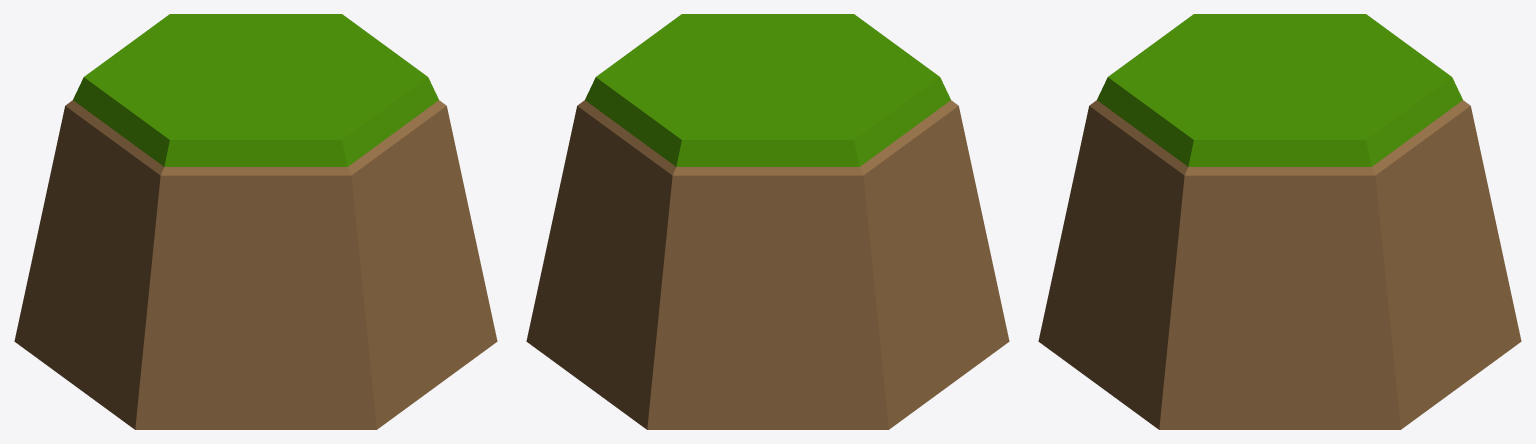
File: RPG_Tiles_Hex_Mound_Moss_Small_01.FBX
3 views of the same model, side by side, from view 1: azimuth 30°, elevation 25°; view 2: azimuth 150°, elevation 25°; view 3: azimuth 270°, elevation 25° (orthographic).
Visible parts, largest first — view 1: RPG_Tiles_Hex_Mound_Moss_Small_01; view 2: RPG_Tiles_Hex_Mound_Moss_Small_01; view 3: RPG_Tiles_Hex_Mound_Moss_Small_01.
Boxes of the visible parts, left/top/right/bottom form: RPG_Tiles_Hex_Mound_Moss_Small_01: left=14, top=14, right=497, bottom=429; RPG_Tiles_Hex_Mound_Moss_Small_01: left=526, top=14, right=1009, bottom=429; RPG_Tiles_Hex_Mound_Moss_Small_01: left=1038, top=14, right=1521, bottom=429.
Size of the model in its own units: 1173 by 819 by 1355.
